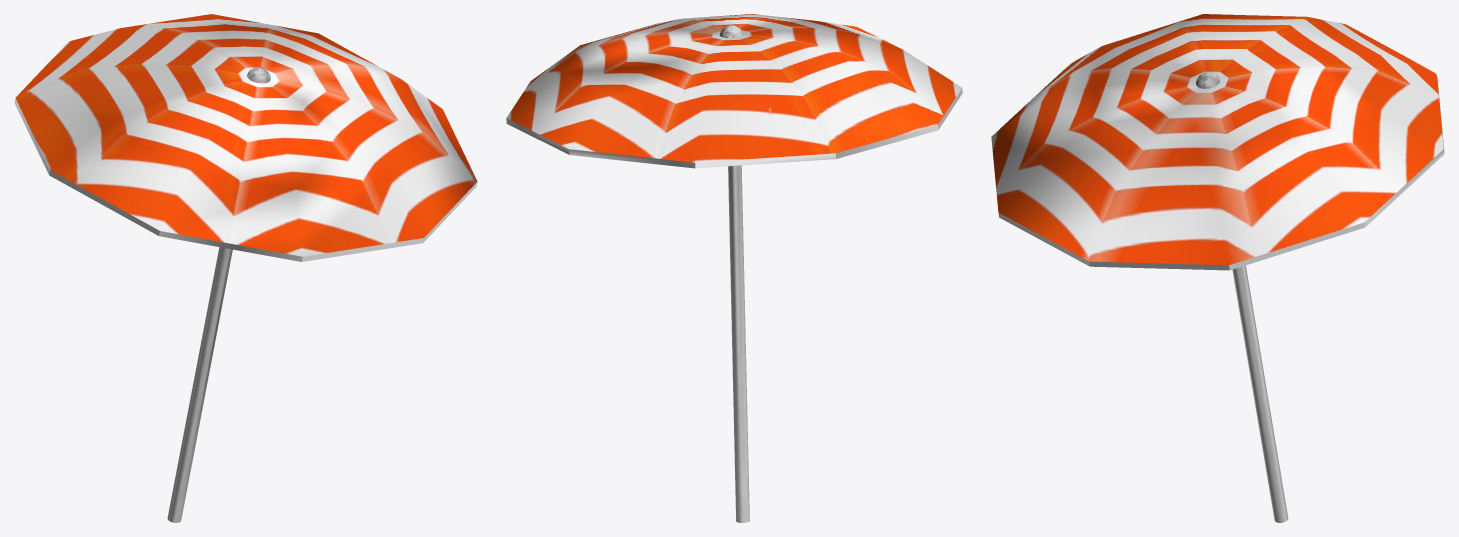
File: ETC0610058.fbx
The picture shows the model from 3 angles, left to right: view 1: azimuth 30°, elevation 25°; view 2: azimuth 150°, elevation 25°; view 3: azimuth 270°, elevation 25°; orthographic projection. The views are drawn at different scales.
Parts seen in each view (by area): view 1: smETC0610058; view 2: smETC0610058; view 3: smETC0610058.
Boxes of the visible parts, x1,y1,x2,y2 form: smETC0610058: (14, 14, 477, 522); smETC0610058: (506, 14, 962, 522); smETC0610058: (991, 14, 1444, 522).
Size of the model in its own units: 272 by 301 by 262.
1 material, 1 textured.
